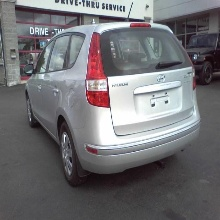no damage: (24, 21, 202, 186)
